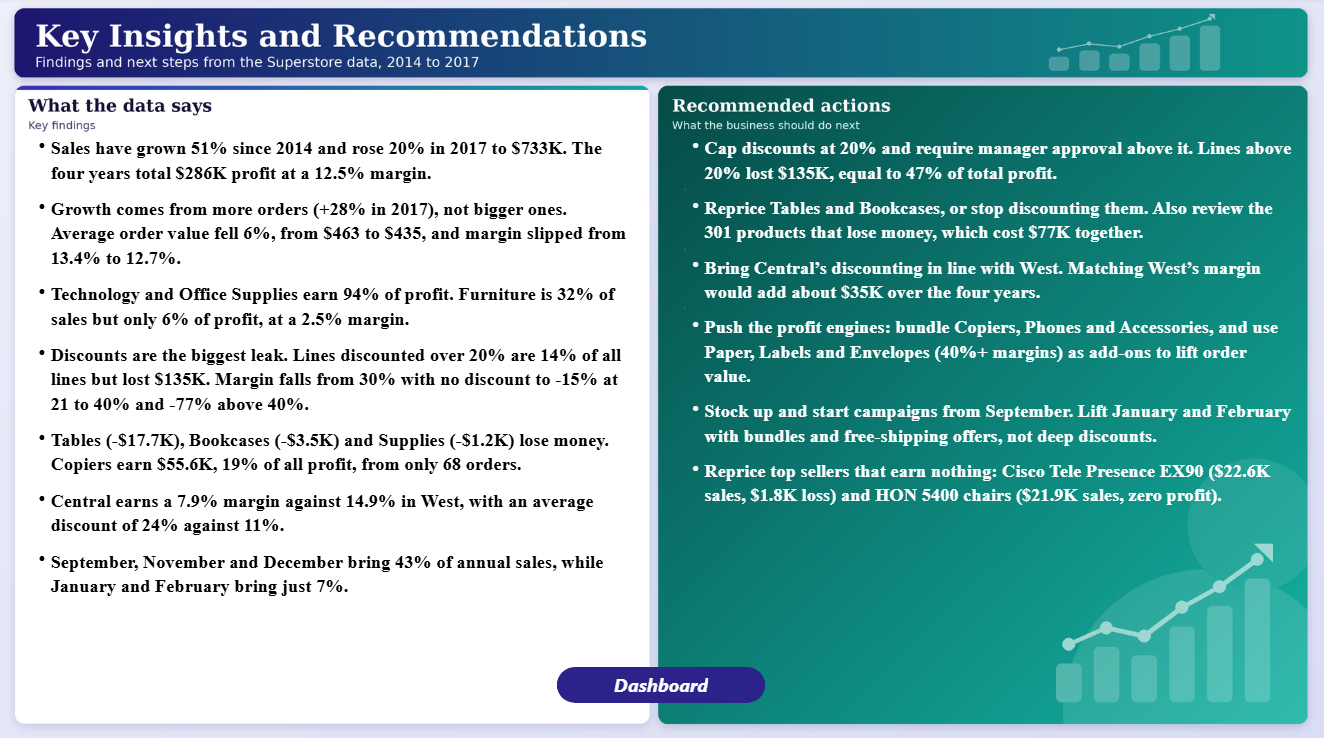

Layout of this report page (visuals, bound fields, positions):
{"tool":"powerbi","page":{"name":"Findings","canvas":[1920,1080],"ordinal":2},"visuals":[{"type":"pageNavigator","box":[808.9,970,302.2,52.5],"z":0},{"type":"shape","box":[839.7,979,43.4,36.2],"z":1000},{"type":"textbox","box":[36.2,199.1,881.3,798.1],"z":2000},{"type":"textbox","box":[982.6,199.1,894,698.5],"z":3000}]}

Visuals, with their boxes in screenshot pixels (x1, y1, x2, y2), scaled from the page's 1920x1080 canvas onto the 1324x738 screenshot:
pageNavigator: bbox(558, 663, 766, 699)
shape: bbox(579, 669, 609, 694)
textbox: bbox(25, 136, 633, 681)
textbox: bbox(678, 136, 1294, 613)
